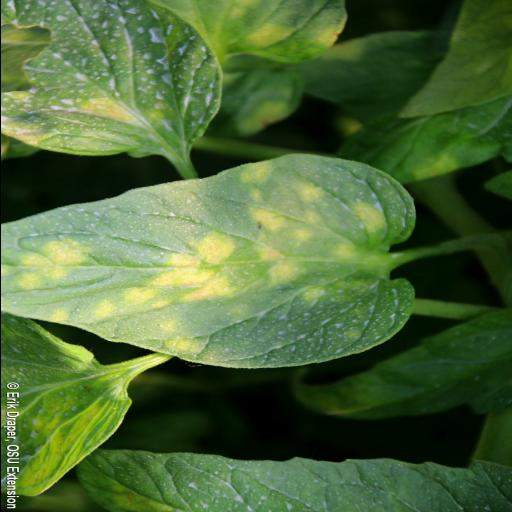disease_tomato: (0, 152, 417, 370), (0, 0, 228, 158)
